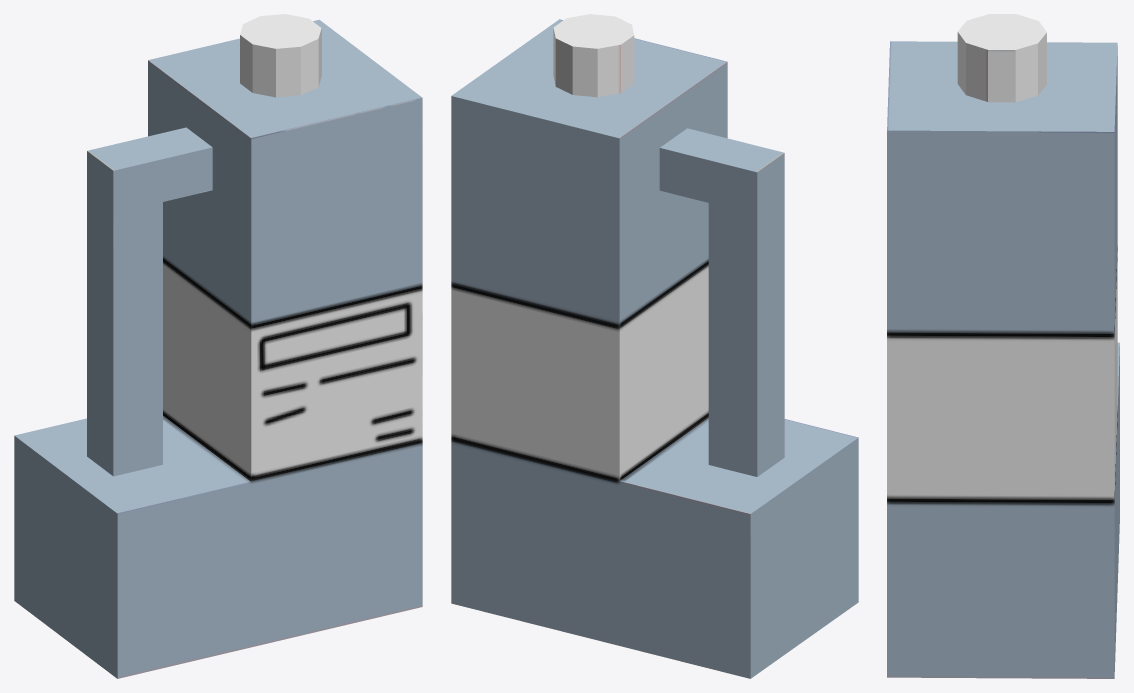
File: prodotto 3.fbx
3 renders of one model, left to right at view 1: azimuth 30°, elevation 25°; view 2: azimuth 150°, elevation 25°; view 3: azimuth 270°, elevation 25°, orthographic. The views are drawn at different scales.
Parts seen in each view (by area): view 1: prodotto_3; view 2: prodotto_3; view 3: prodotto_3.
Part boxes in pixels (box(x1,y1,x2,y2)): prodotto_3: box(14, 14, 422, 678); prodotto_3: box(451, 14, 858, 678); prodotto_3: box(887, 14, 1119, 678).
Size of the model in its own units: 0.0128 by 0.0224 by 0.00789.
Materials: 1 (1 with a texture image).
